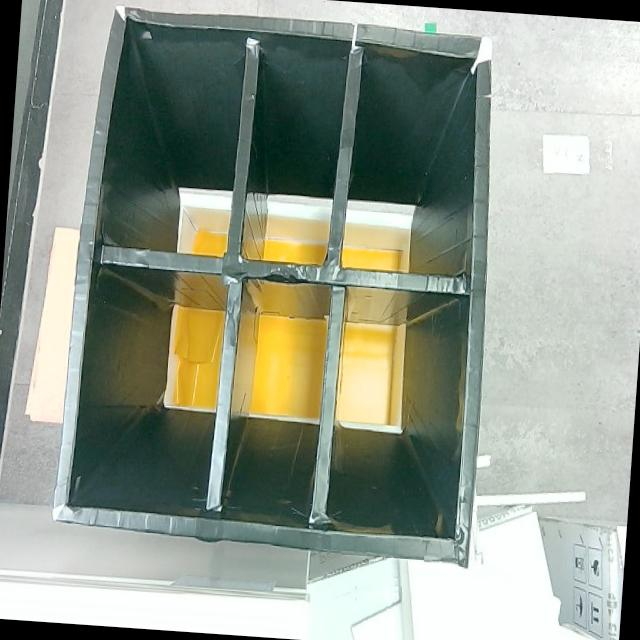box: (50, 2, 508, 564)
